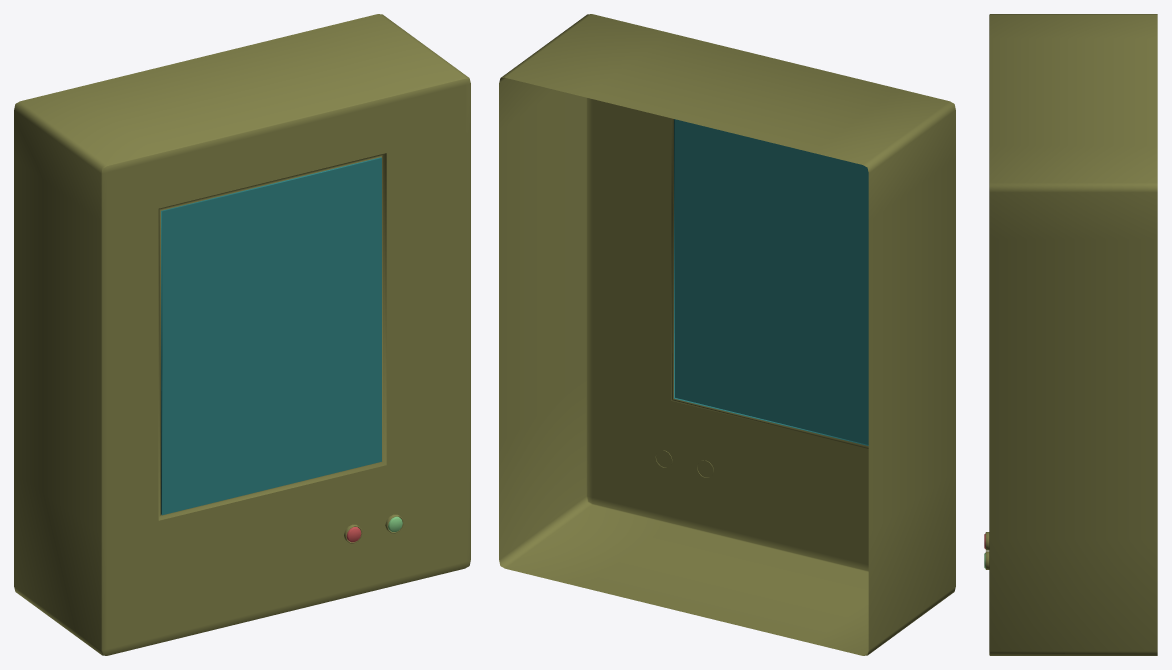
Rendered from HandScanner.fbx.
3 views of the same model, side by side, from view 1: azimuth 30°, elevation 25°; view 2: azimuth 150°, elevation 25°; view 3: azimuth 270°, elevation 25° (orthographic). The views are drawn at different scales.
Parts seen in each view (by area): view 1: HandScanner; view 2: HandScanner; view 3: HandScanner.
Part boxes in pixels (x1,y1,x2,y2): HandScanner: (14,14,470,655); HandScanner: (499,14,955,655); HandScanner: (984,14,1157,655).
Size of the model in its own units: 29.27 by 12.35 by 37.13.
